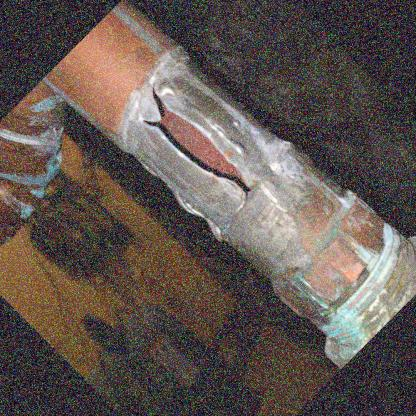burst: (154, 87, 256, 207)
